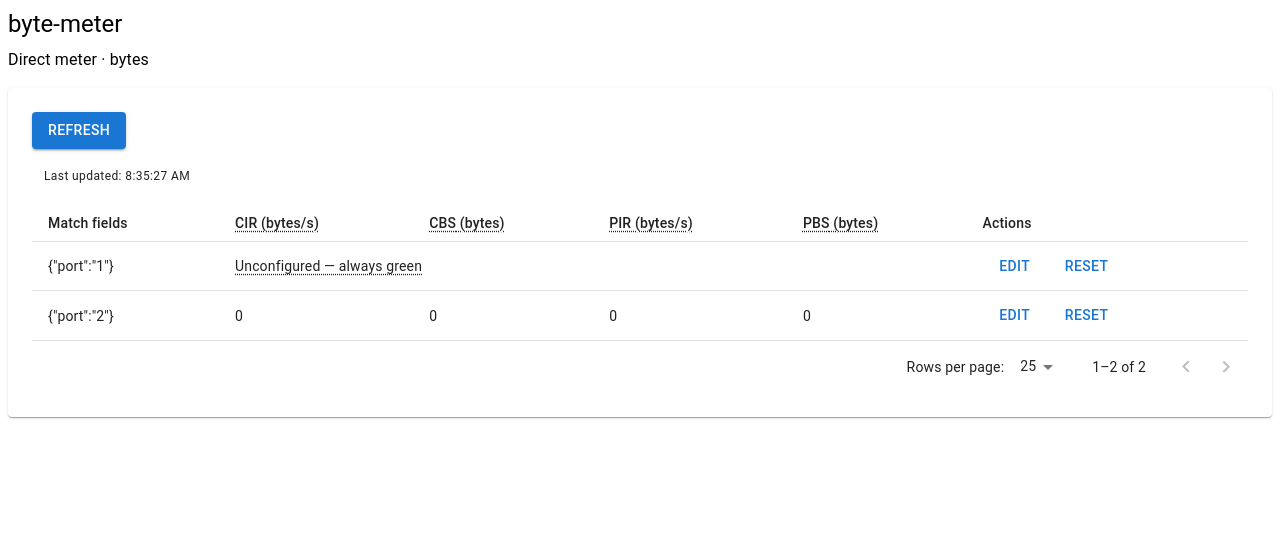
Test case: indexed resources › distinguishes unset direct-meters from explicit zero rates and requires an explicit new configuration
The image size is (1280, 544).
Expected: the text "Unconfigured — always green" is shown, [235,258,422,274]
Expected: the text "0" is shown 4 times, [219,291,413,340]; [413,291,593,340]; [593,291,787,340]; [787,291,967,340]
Hover over the text "CIR (bytes/s)" at (246, 223), box [235,215,319,231]
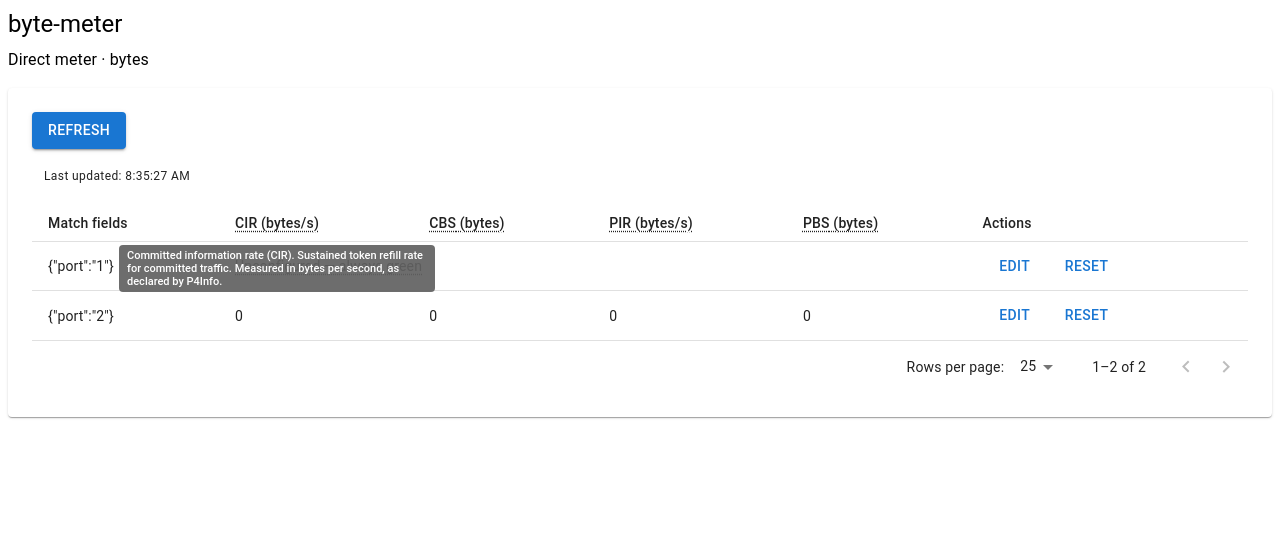
Now the tooltip shows "Committed information rate", box [127,249,423,288]
Now the tooltip shows "bytes per second", box [127,249,423,288]
Move the pointer off the text "CIR (bytes/s)", box [235,215,319,231]
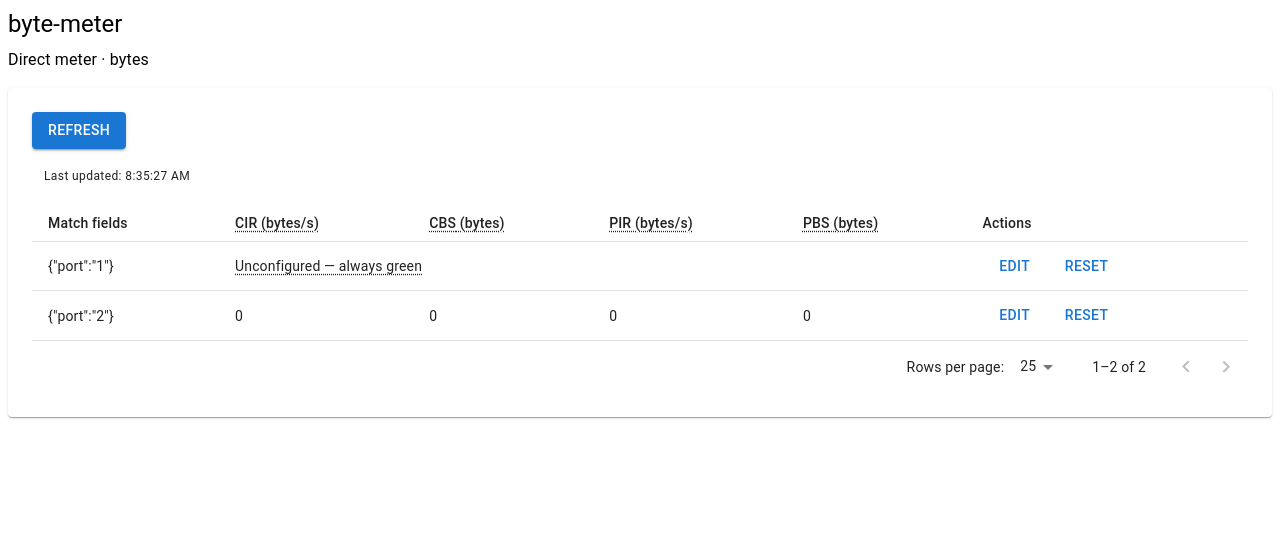
Click the button "Edit" in the row of "{\"port\":\"1\"}". click: (1015, 266)
box: [983,248,1047,284]
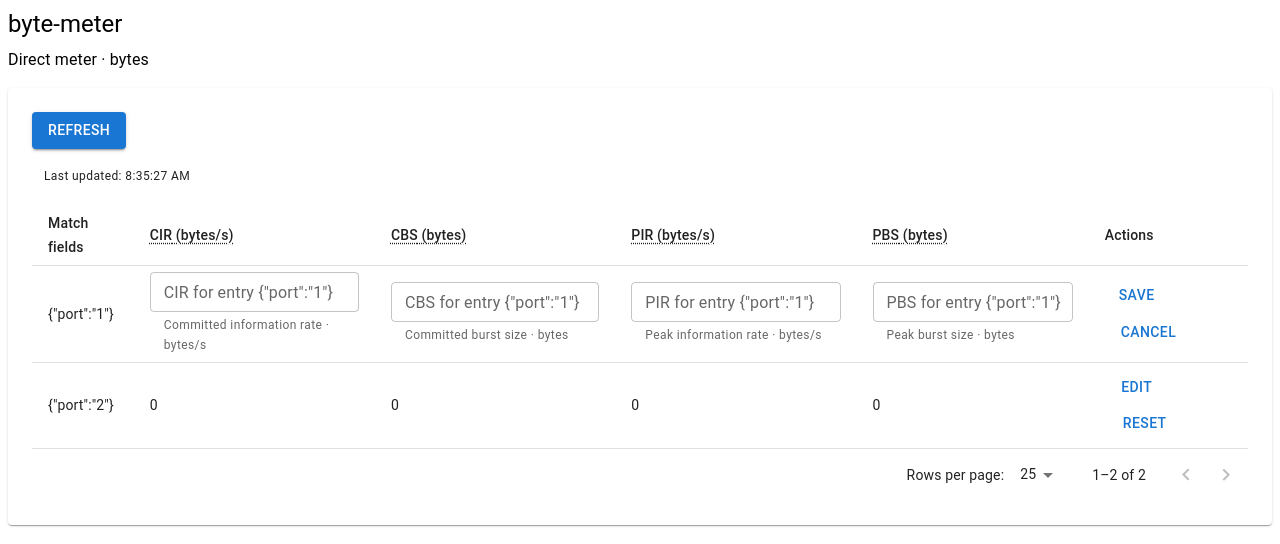
Now the text "Committed burst size · bytes" is shown, box [405,326,585,346]
Click the button "Save". click: (1137, 296)
box: [1105,277,1169,314]
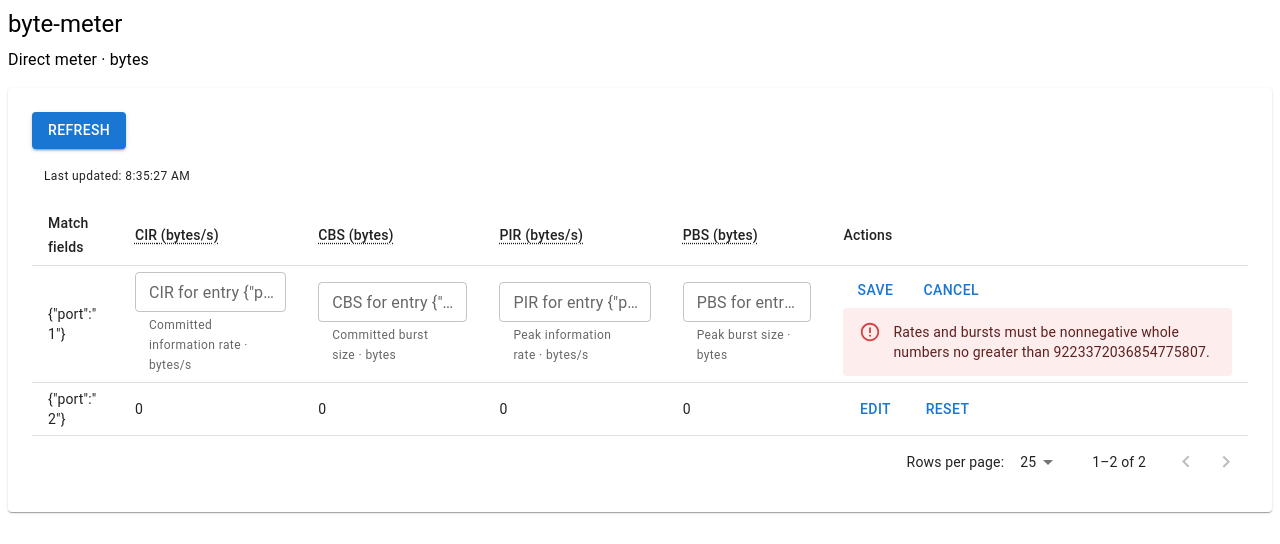
Now the message shows "nonnegative whole numbers", box [894,324,1210,360]
Click the button "Cancel". click: (951, 290)
box: [916,272,987,308]
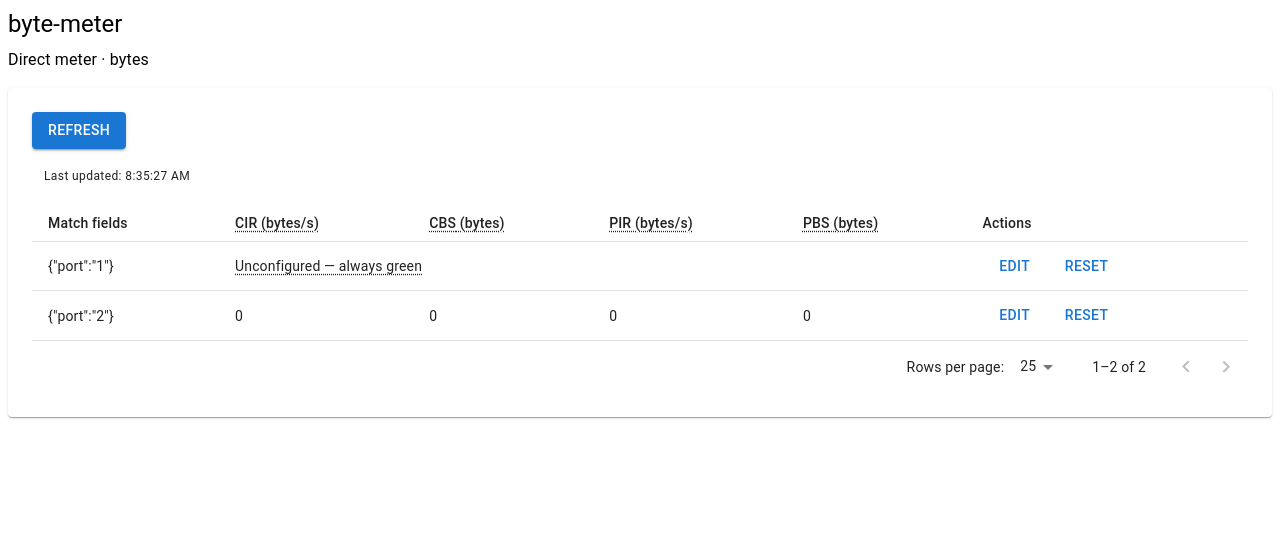
Click the button "Reset" in the row of "{\"port\":\"2\"}". click: (1087, 316)
box: [1055,297,1119,334]
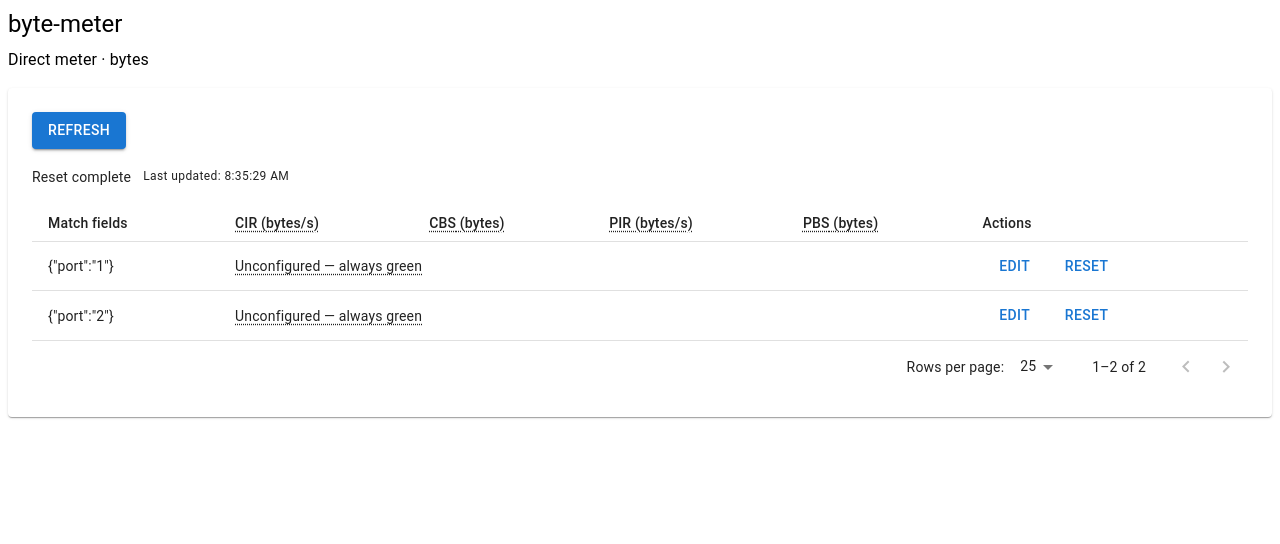
Now the text "Reset complete" is shown, box [32,167,131,187]
Now the text "Unconfigured — always green" is shown 2 times, box [235,258,422,274]; [235,308,422,324]
